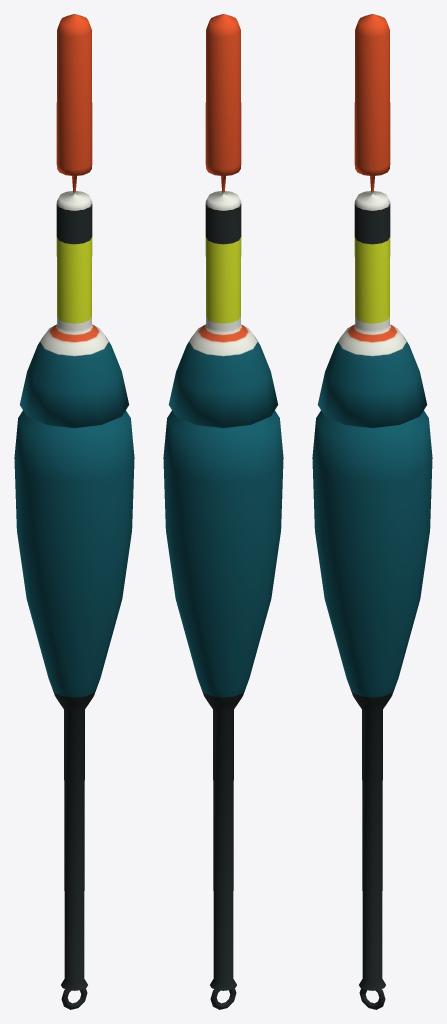
The picture shows the model from 3 angles, left to right: view 1: azimuth 30°, elevation 25°; view 2: azimuth 210°, elevation 25°; view 3: azimuth 330°, elevation 25°; orthographic projection.
Visible parts, largest first — view 1: F39_Float; view 2: F39_Float; view 3: F39_Float.
Part boxes in pixels (bbox=[...]): F39_Float: bbox=[14, 14, 134, 1009]; F39_Float: bbox=[163, 14, 283, 1009]; F39_Float: bbox=[312, 14, 432, 1009].
Bounding box in the file's own units: 0.0219 × 0.2 × 0.0219.
Materials: 1 (1 with a texture image).
